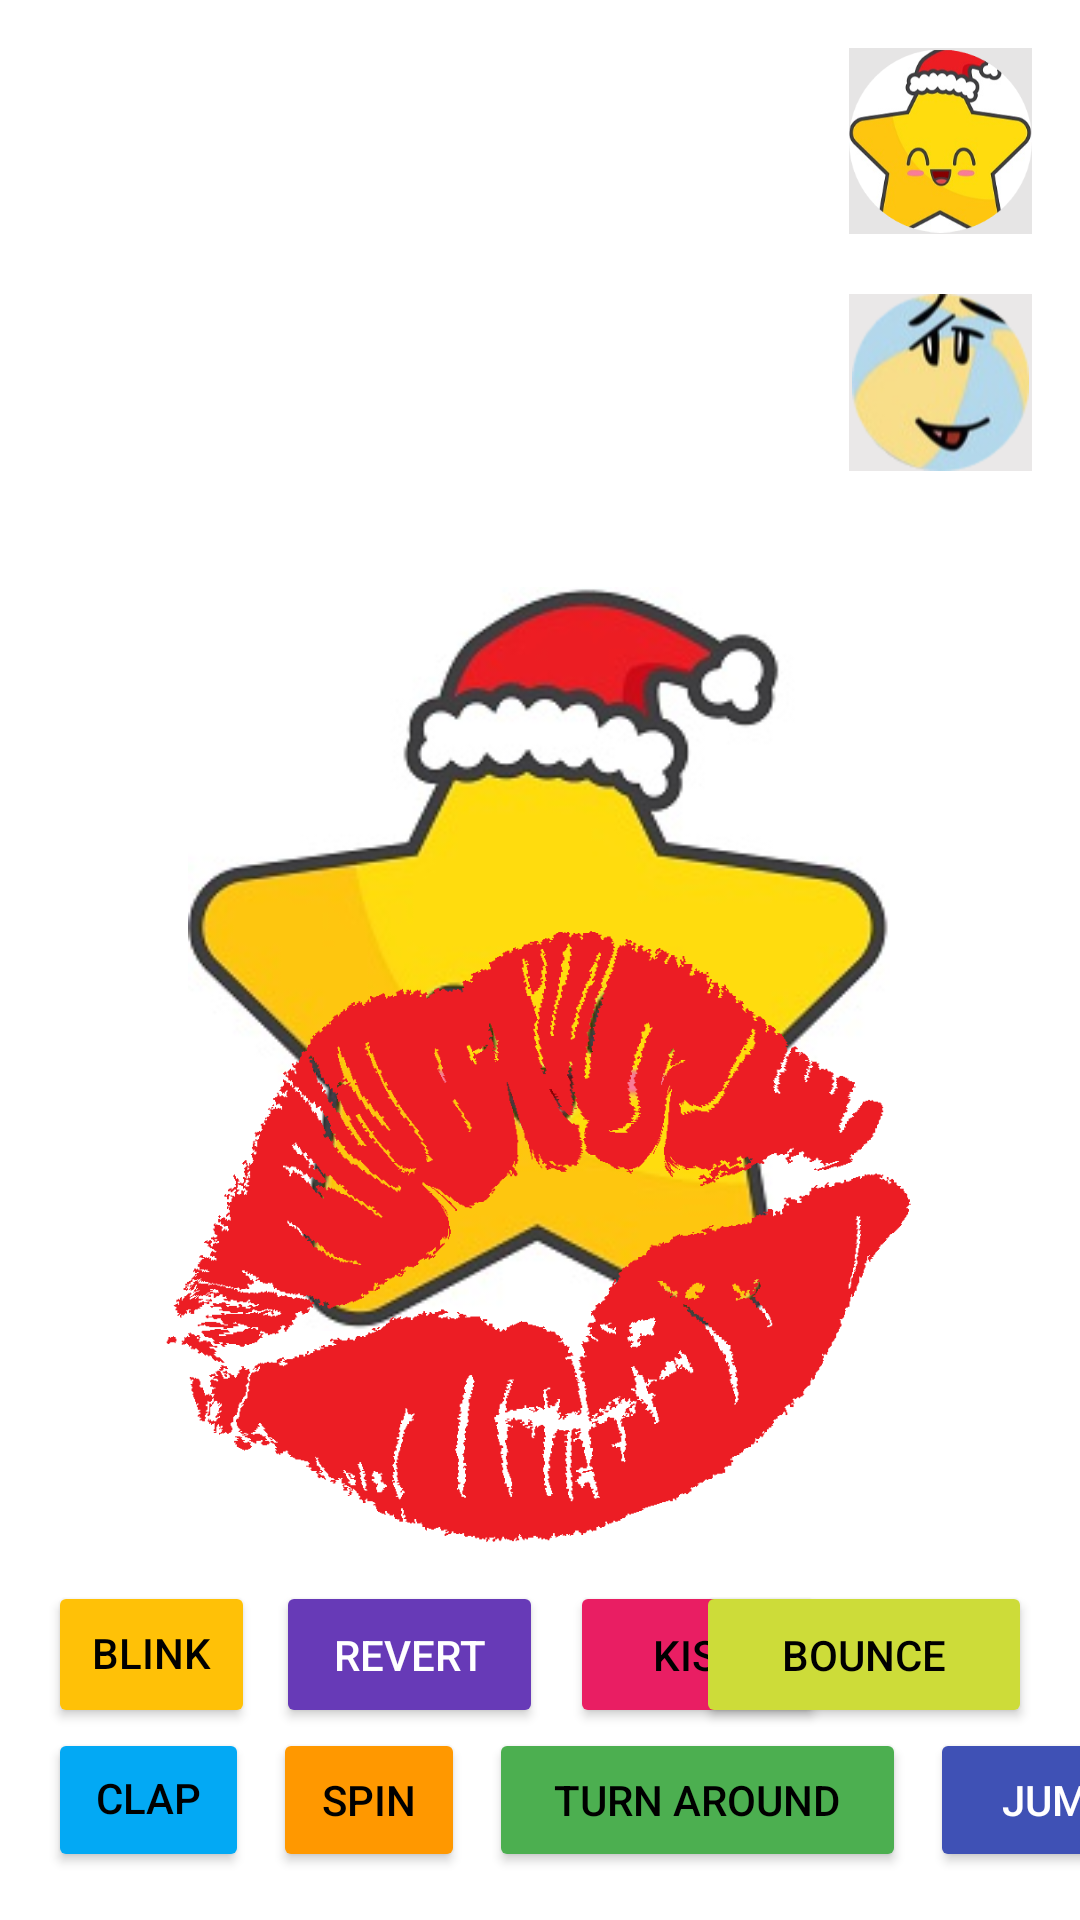

Icons on this 1080px x 1920px Android screen, each with its box as {"x1": x1, "y1": y1, "x2": x2, "y2": y2}:
Ball circle: {"x1": 852, "y1": 294, "x2": 1029, "y2": 471}
Star circle: {"x1": 849, "y1": 48, "x2": 1032, "y2": 234}
